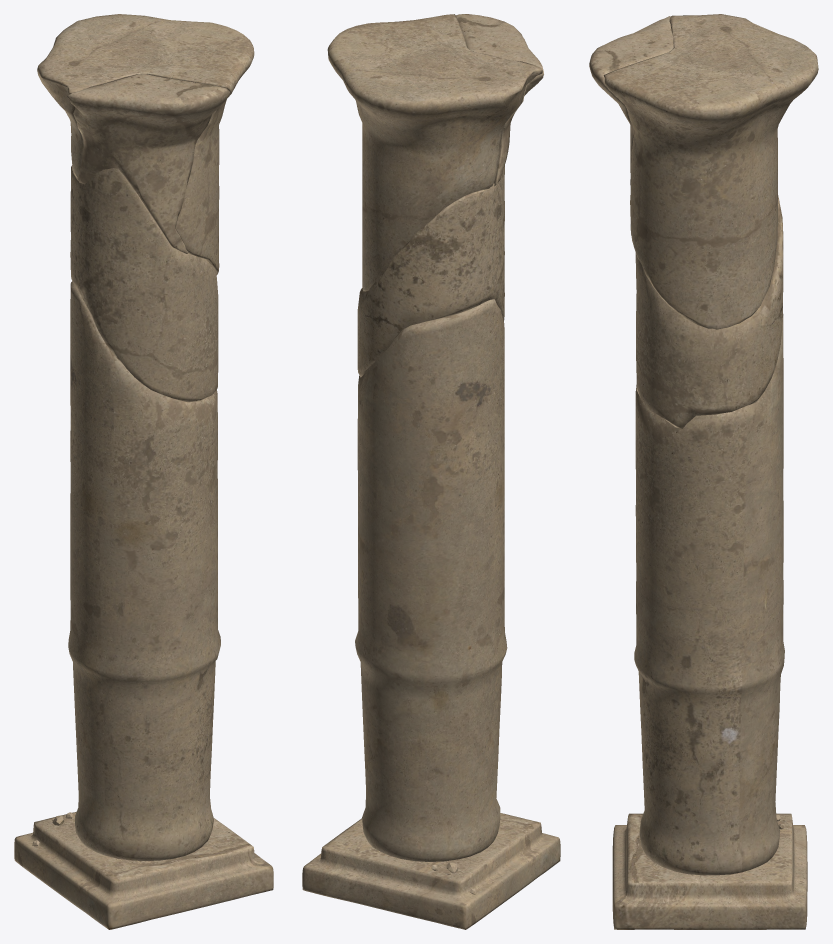
Rendered from kolon_3.fbx.
3 views of the same model, side by side, from view 1: azimuth 30°, elevation 25°; view 2: azimuth 150°, elevation 25°; view 3: azimuth 270°, elevation 25° (orthographic).
Visible parts, largest first — view 1: defaultMaterial; view 2: defaultMaterial; view 3: defaultMaterial.
Part boxes in pixels (x1,y1,x2,y2): defaultMaterial: [14, 14, 273, 929]; defaultMaterial: [302, 14, 560, 929]; defaultMaterial: [589, 14, 818, 929].
Bounding box in the file's own units: 206 × 831 × 208.
